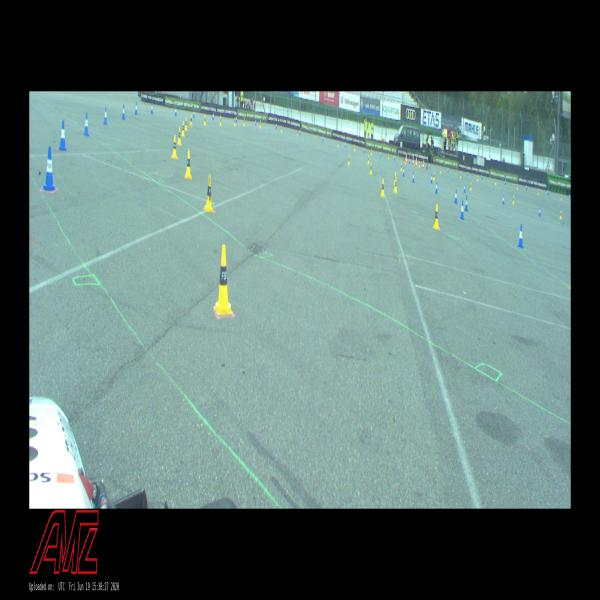blue_cone: (42, 147, 56, 191), (58, 119, 66, 151), (84, 112, 90, 136), (518, 224, 524, 248), (460, 200, 464, 220), (104, 106, 108, 125), (122, 103, 126, 120), (464, 196, 468, 211), (134, 102, 138, 115), (150, 102, 154, 114), (454, 188, 457, 204), (435, 180, 438, 194), (412, 172, 415, 183), (174, 106, 177, 116), (402, 166, 405, 176), (502, 195, 505, 205), (463, 183, 466, 193), (538, 207, 541, 216), (430, 174, 433, 183), (193, 108, 195, 118), (212, 112, 214, 120)
large_orange_cone: (415, 155, 417, 167), (422, 158, 424, 169), (405, 153, 407, 162), (412, 156, 414, 164)
yellow_cone: (214, 245, 233, 315), (204, 174, 213, 212), (184, 149, 192, 179), (432, 204, 440, 230), (172, 135, 178, 158), (380, 177, 385, 197), (178, 126, 182, 145), (181, 120, 185, 136), (184, 116, 188, 131), (394, 177, 397, 192), (190, 114, 193, 127), (219, 114, 222, 127), (369, 162, 372, 174), (347, 154, 350, 165), (233, 117, 236, 126), (559, 210, 562, 219), (204, 114, 206, 125), (512, 195, 514, 205), (470, 182, 472, 190)
